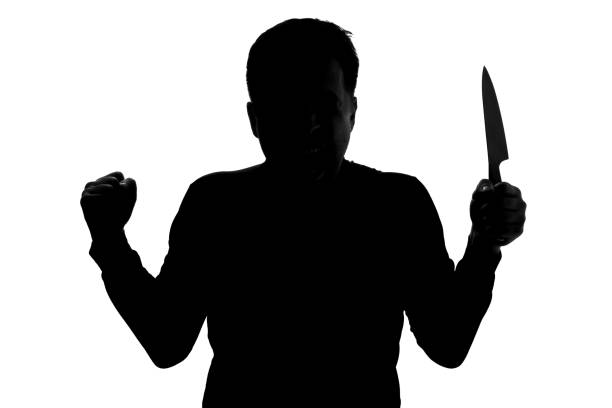knife: (480, 64, 511, 184)
